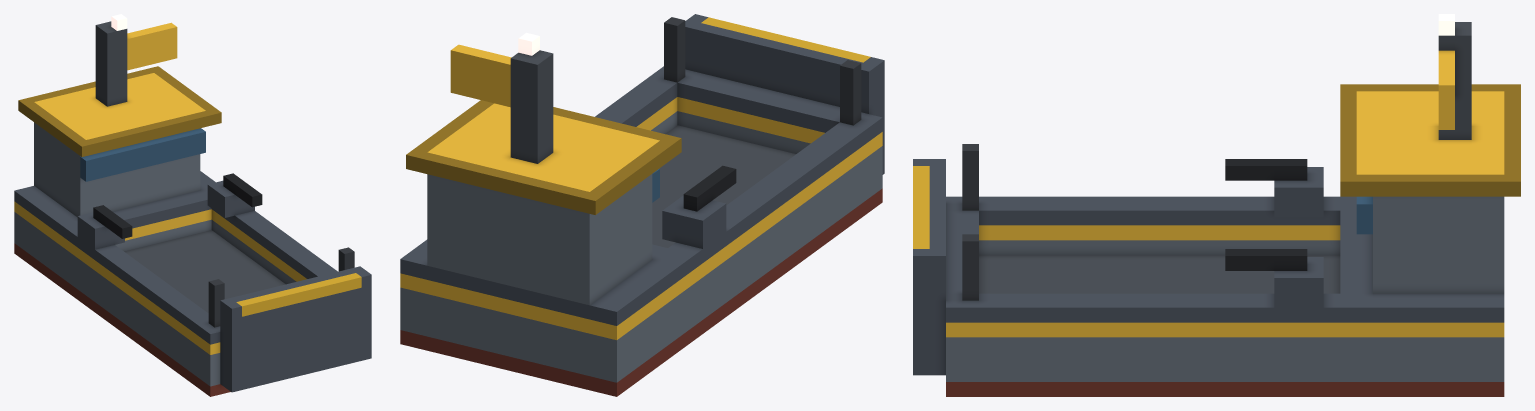
Rendered from cm_transport_2.glb.
3 renders of one model, left to right at view 1: azimuth 30°, elevation 25°; view 2: azimuth 150°, elevation 25°; view 3: azimuth 270°, elevation 25°, orthographic. The views are drawn at different scales.
Visible parts, largest first — view 1: cm_transport_2_body; view 2: cm_transport_2_body; view 3: cm_transport_2_body.
Part boxes in pixels (x1,y1,x2,y2): cm_transport_2_body: [14, 14, 371, 396]; cm_transport_2_body: [400, 14, 884, 396]; cm_transport_2_body: [913, 14, 1520, 396].
Size of the model in its own units: 1 by 1.38 by 2.31.
Materials: 1 (1 with a texture image).
